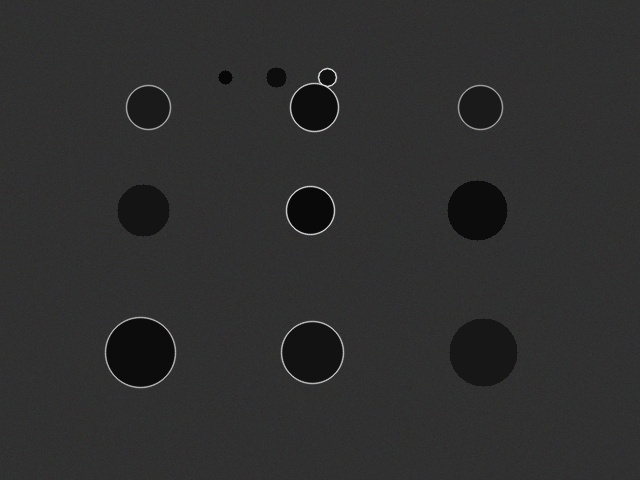hole: (105, 317, 175, 387), (449, 318, 517, 386), (281, 321, 343, 383), (447, 180, 507, 240), (117, 184, 169, 236), (290, 83, 338, 131), (286, 186, 334, 234), (126, 85, 170, 129), (458, 85, 502, 129), (266, 67, 286, 87), (318, 68, 336, 86), (218, 70, 232, 84)
